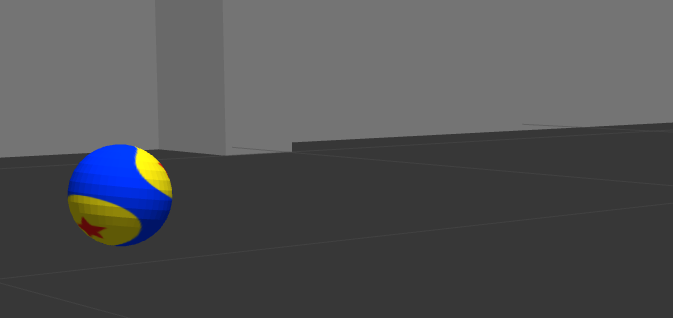toy story ball: (68, 143, 173, 246)
